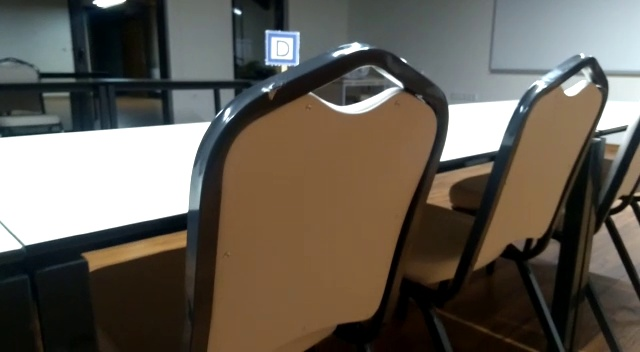durak: (262, 29, 303, 68)
